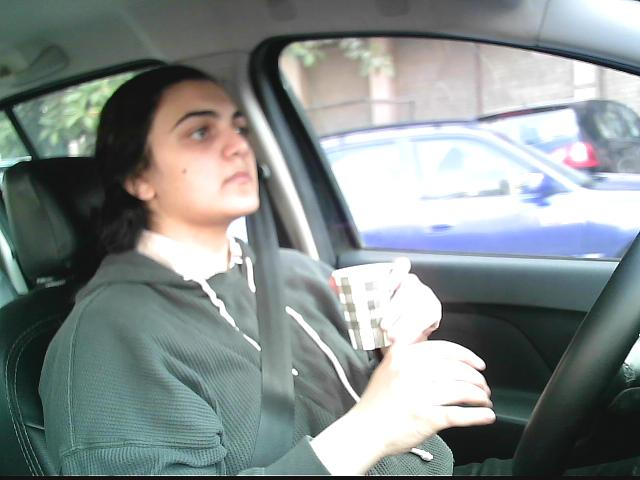Drinking: (330, 257, 414, 355)
